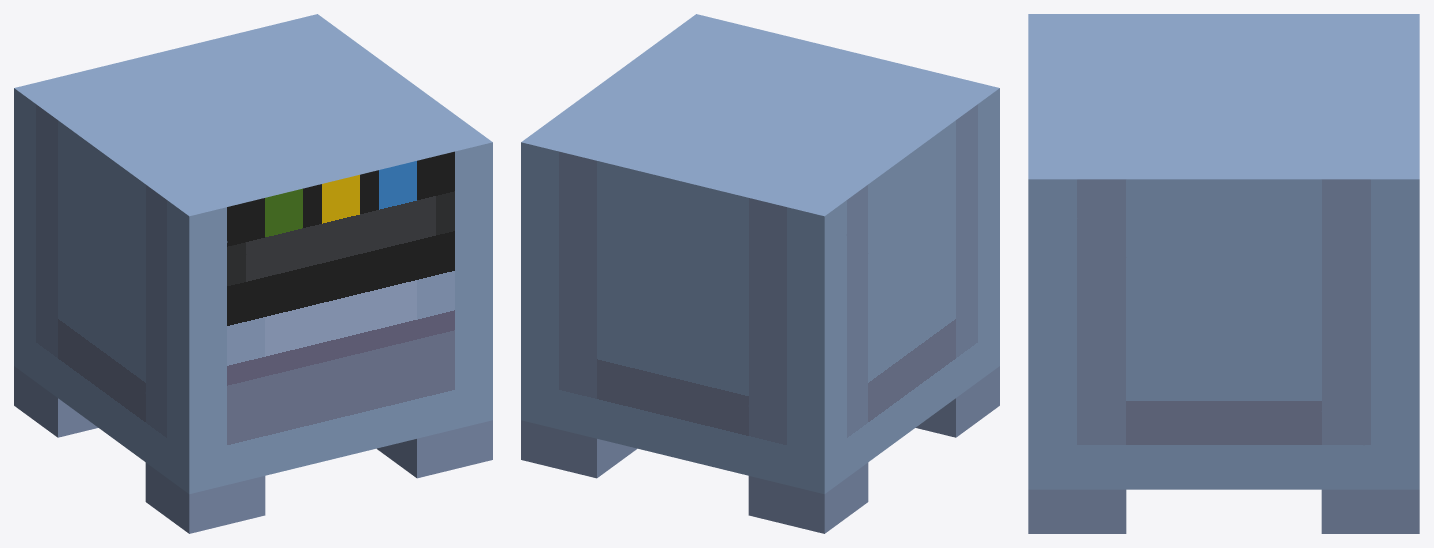
The model's file is vending_machine_bottom.glb.
3 renders of one model, left to right at view 1: azimuth 30°, elevation 25°; view 2: azimuth 150°, elevation 25°; view 3: azimuth 270°, elevation 25°, orthographic. The views are drawn at different scales.
Parts seen in each view (by area): view 1: cube; view 2: cube; view 3: cube.
Boxes of the visible parts, x1,y1,x2,y2 form: cube: (14,14,492,533); cube: (521,14,999,533); cube: (1028,14,1419,533).
Size of the model in its own units: 1 by 1 by 1.
1 material, 1 textured.
